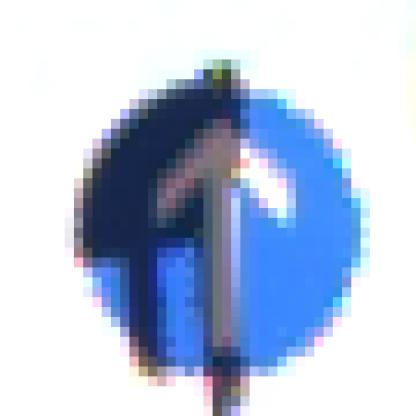AheadOnly: (57, 61, 362, 368)
